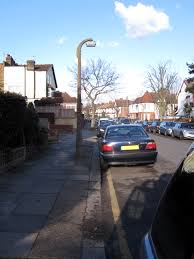light_pole: (70, 38, 90, 164)
